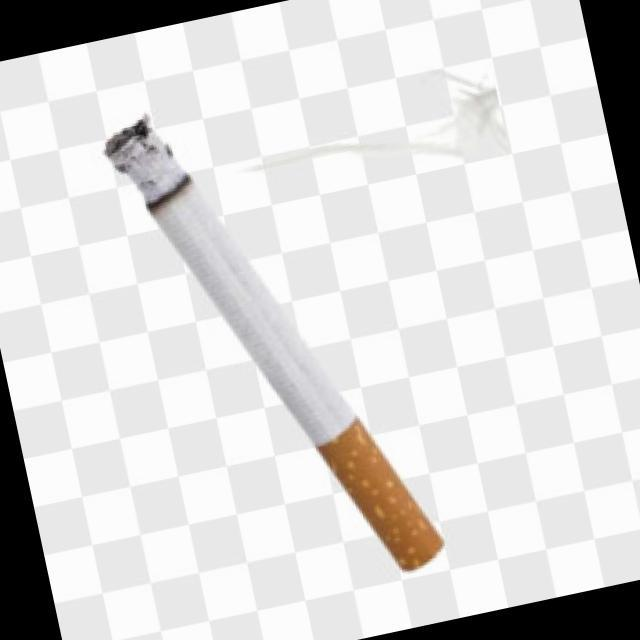cigarette: (95, 62, 468, 630)
